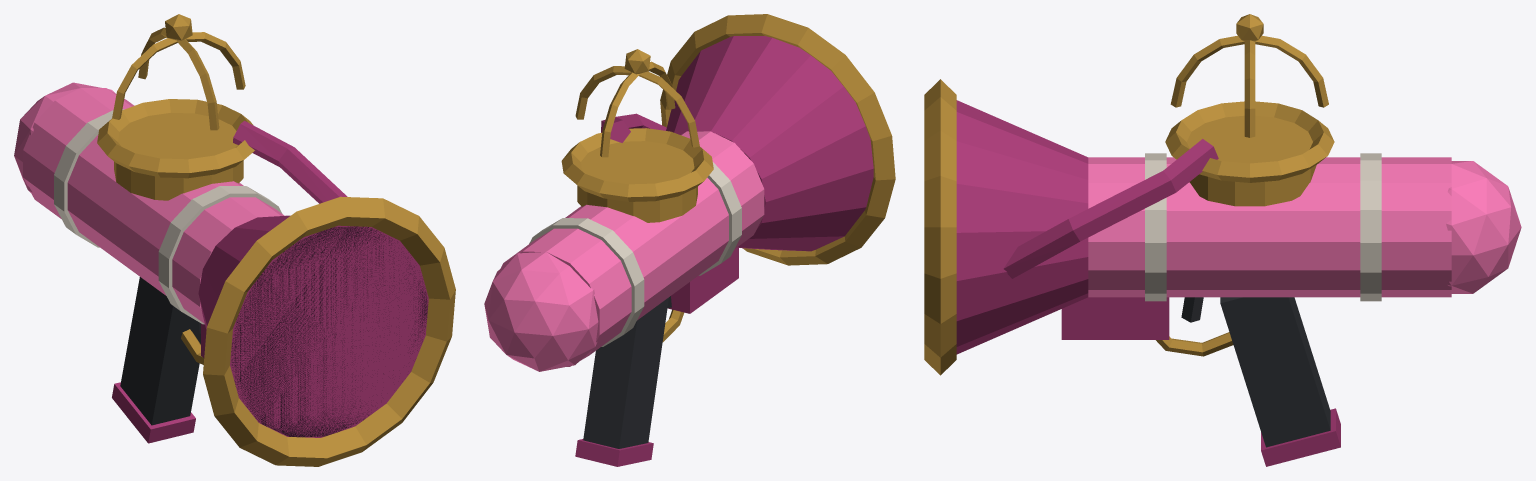
Rendered from Absorber.obj.
The picture shows the model from 3 angles, left to right: view 1: azimuth 30°, elevation 25°; view 2: azimuth 150°, elevation 25°; view 3: azimuth 270°, elevation 25°; orthographic projection. The views are drawn at different scales.
Visible parts, largest first — view 1: Absorber; view 2: Absorber; view 3: Absorber.
Part boxes in pixels (x1=…): Absorber: x1=14, y1=14, x2=455, y2=466; Absorber: x1=484, y1=14, x2=895, y2=466; Absorber: x1=924, y1=14, x2=1521, y2=466.
Bounding box in the file's own units: 0.2231 × 0.3622 × 0.444.
